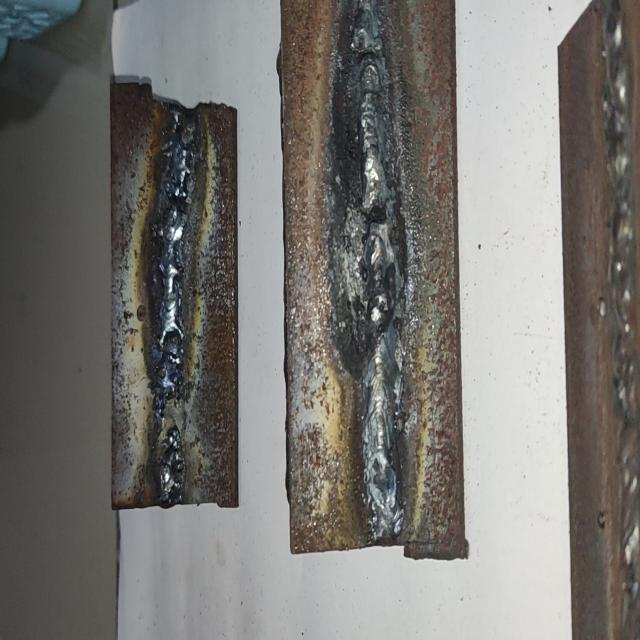Bad Weld: (356, 18, 395, 538), (155, 115, 189, 498)
Defect: (345, 182, 405, 354), (150, 120, 194, 226), (150, 363, 192, 468)
